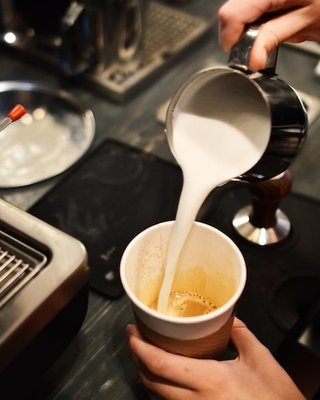pizza: (120, 218, 248, 360)
